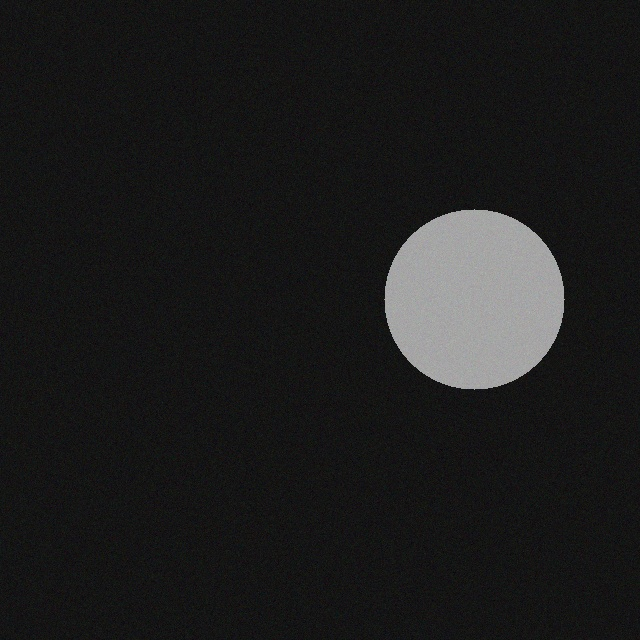circle: (377, 211, 557, 391)
